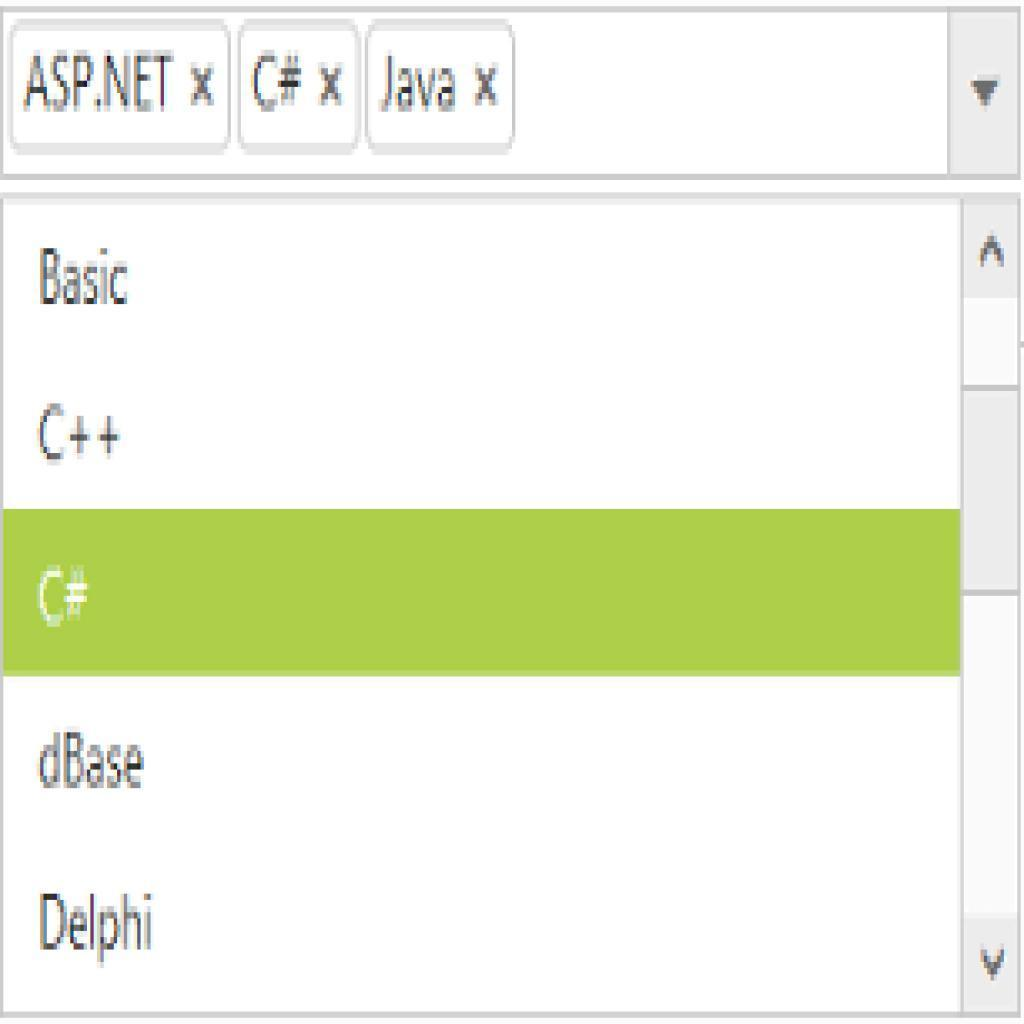button: (1, 509, 962, 676)
dropdown: (3, 7, 1024, 182)
